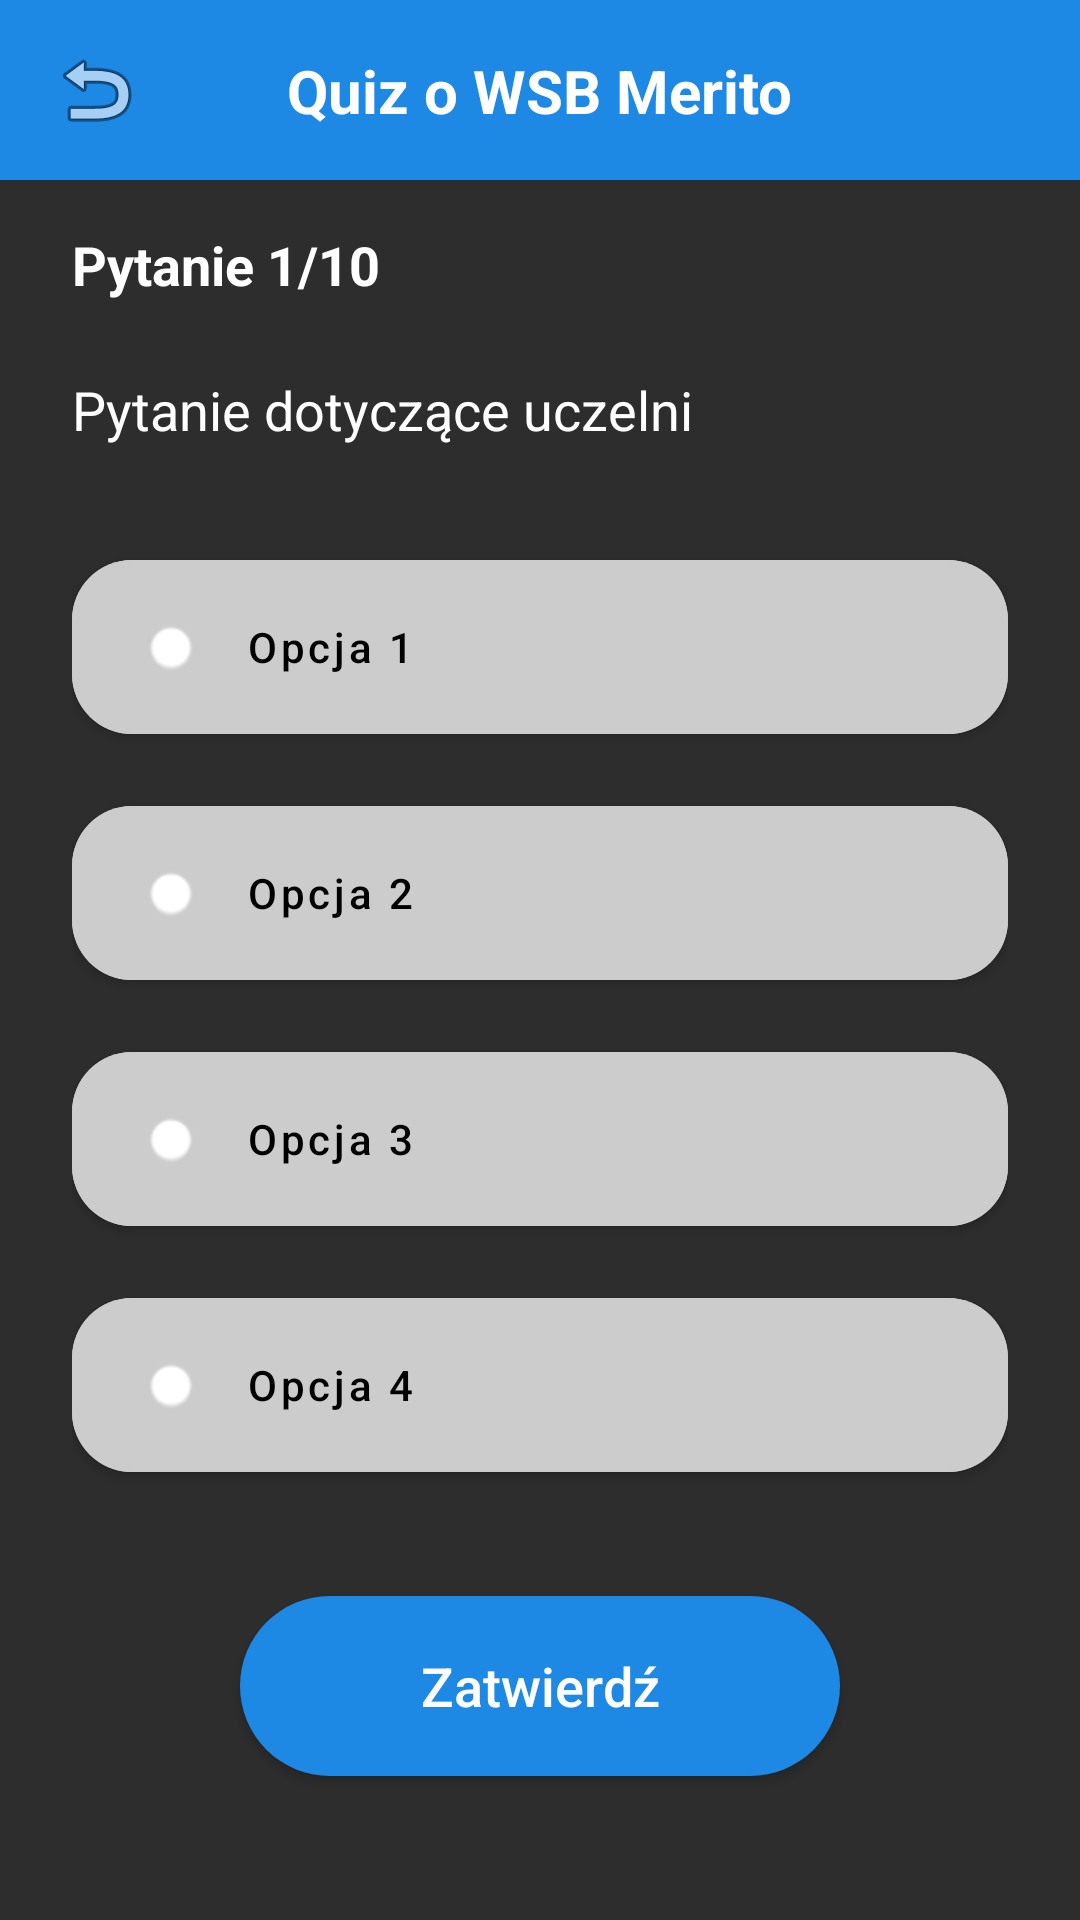

Icons on this 1080x1920 Android screen, each with its box as (x1, y1, x2, y2):
revert: (63, 59, 132, 122)
